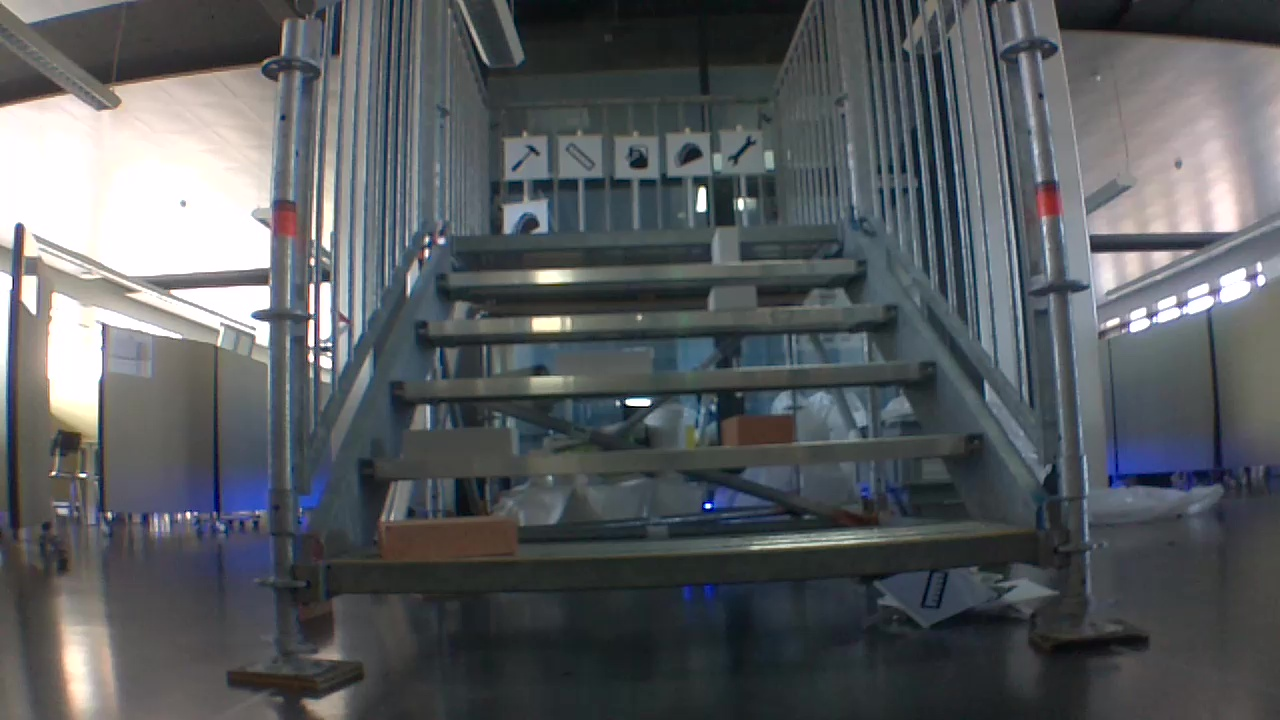brick: (381, 516, 524, 559), (392, 425, 520, 462), (559, 347, 649, 379), (729, 415, 791, 446), (701, 287, 759, 314), (711, 225, 740, 268)
bucket: (622, 142, 652, 175)
edge: (318, 527, 1043, 599), (357, 432, 989, 483), (389, 358, 939, 403), (415, 301, 898, 339), (435, 258, 866, 291), (449, 223, 840, 253)
hammer: (514, 144, 543, 171)
ruler: (561, 140, 597, 176)
stairs: (266, 0, 1096, 681)
steps: (291, 223, 1042, 607)
taco: (674, 141, 706, 168), (512, 212, 538, 236)
wrench: (727, 136, 758, 167)
